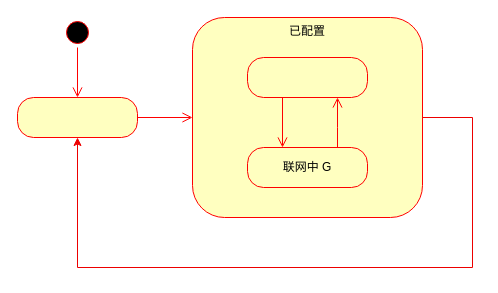
Some shapes in this 498 by 293 pixel diagram are drawn without their labels. The shapes that lost their labels are listed below. From the top down, each one's box as (x1, y1, x2, y2) in pixels, then its label:
(246, 56, 368, 98): 未联网 B
(16, 96, 138, 138): 未配置 R
